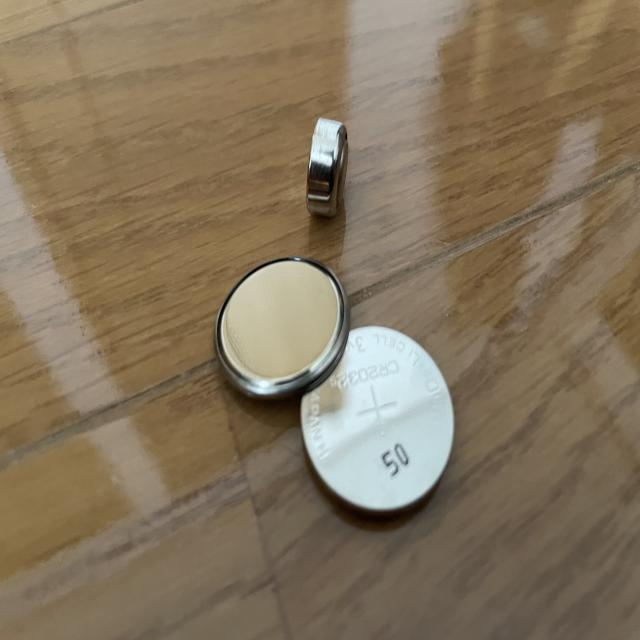COIN: (296, 326, 458, 518), (210, 250, 352, 404), (305, 118, 350, 224)
